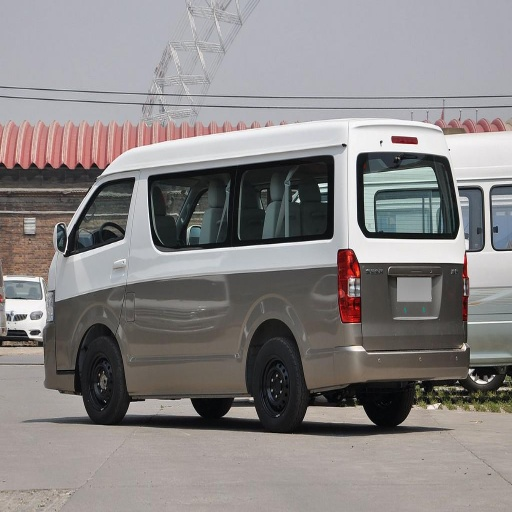back_bumper: (341, 322, 474, 382)
back_glass: (160, 163, 309, 237)
back_left_light: (338, 251, 359, 323)
trunk: (123, 245, 467, 386)
